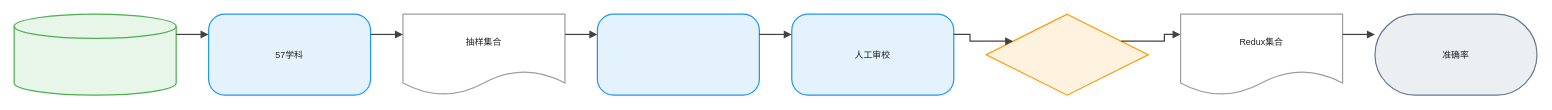
Some shapes in this 1552 by 110 pixel diagram are drawn without their labels. Here are the shapes that lost their labels. From the top down, the centre of each, then its label:
the point at 94,54: MMLU题目
the point at 678,54: 错误协议
the point at 1066,54: 修正标签
